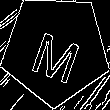M_N: (26, 18, 85, 81)
